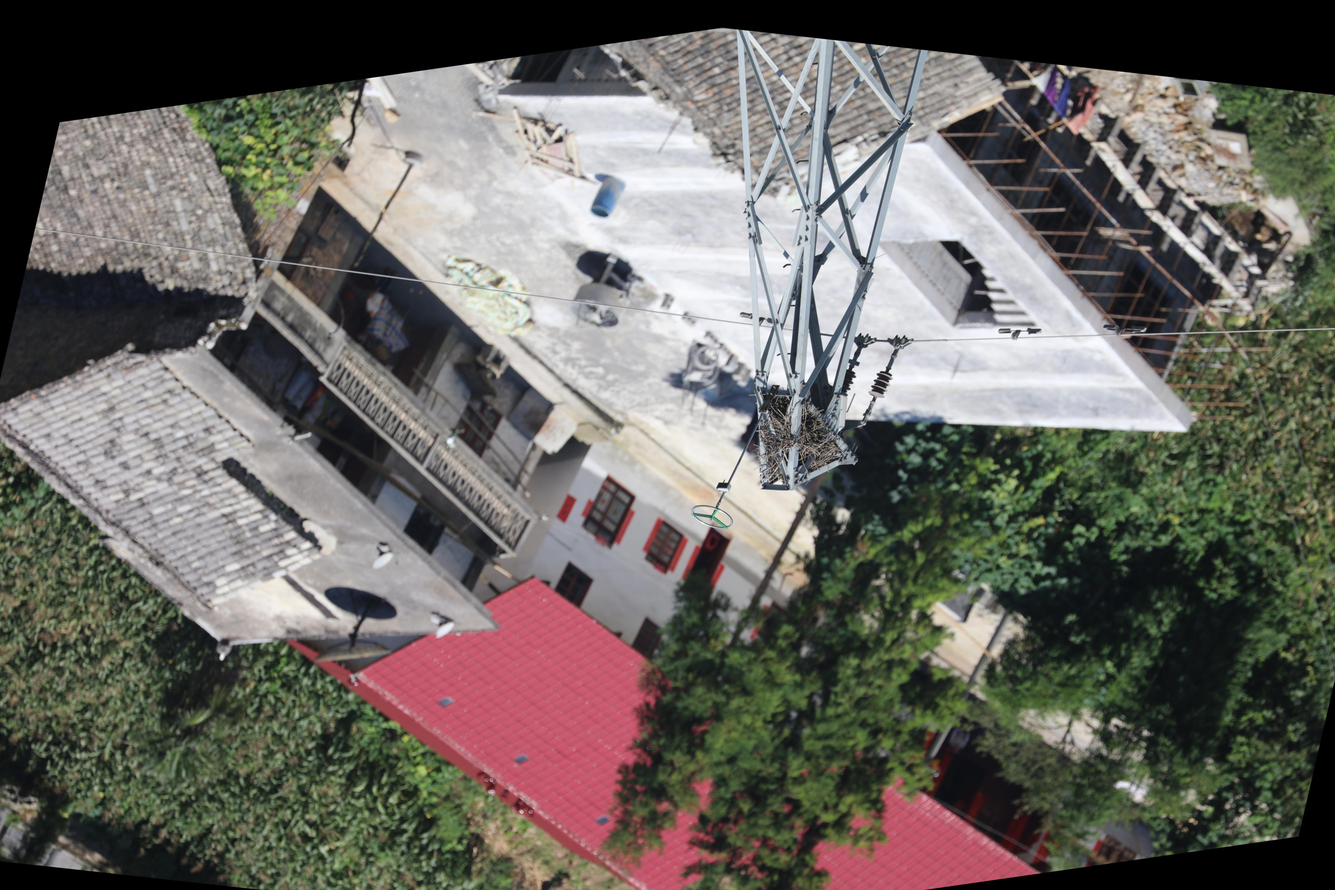damper: (1097, 313, 1150, 348), (994, 315, 1045, 351), (734, 304, 782, 337)
